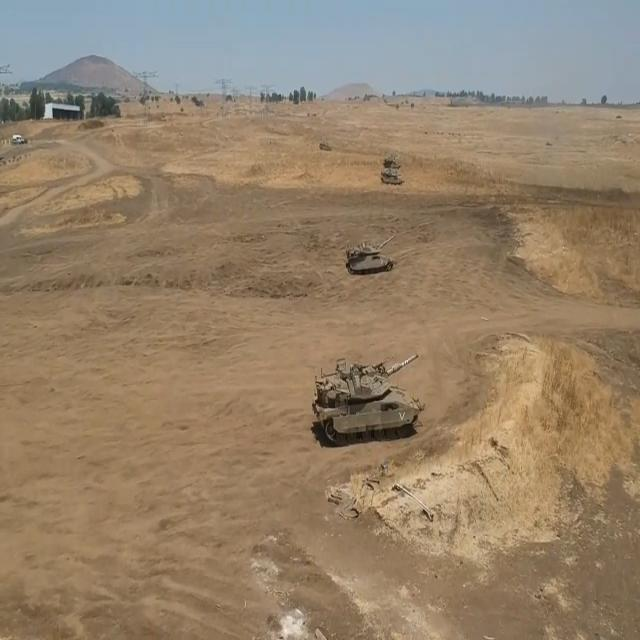tank: (313, 344, 433, 440), (339, 230, 406, 282), (379, 164, 404, 188), (319, 133, 337, 156), (385, 150, 401, 166)
